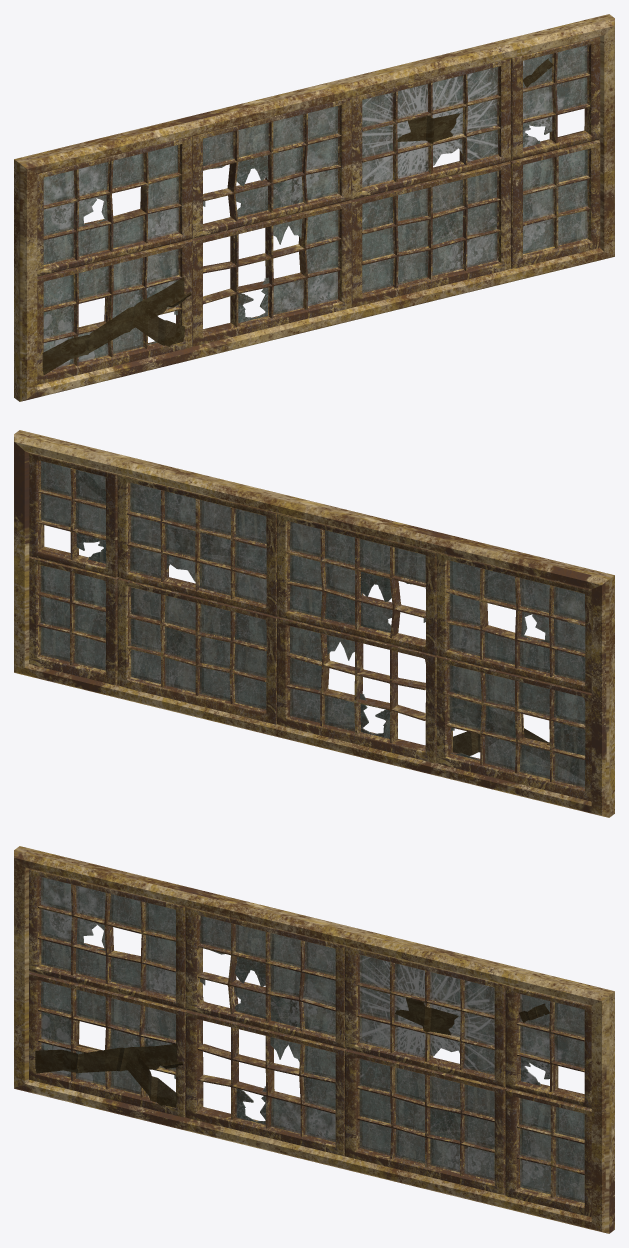
The picture shows the model from 3 angles, top to bottom: view 1: azimuth 30°, elevation 25°; view 2: azimuth 150°, elevation 25°; view 3: azimuth 330°, elevation 25°; orthographic projection.
Parts seen in each view (by area): view 1: Broken_WIndow_01; view 2: Broken_WIndow_01; view 3: Broken_WIndow_01.
Boxes of the visible parts, x1,y1,x2,y2 form: Broken_WIndow_01: (14,14,614,401); Broken_WIndow_01: (14,430,614,817); Broken_WIndow_01: (14,846,614,1233).
Size of the model in its own units: 3.08 by 1.18 by 0.1144.
13 materials, 12 textured.
